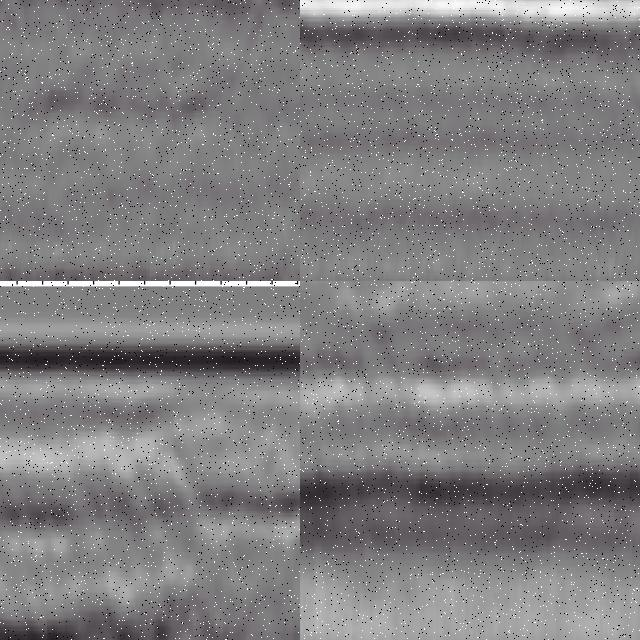crack: (1, 439, 25, 640)
